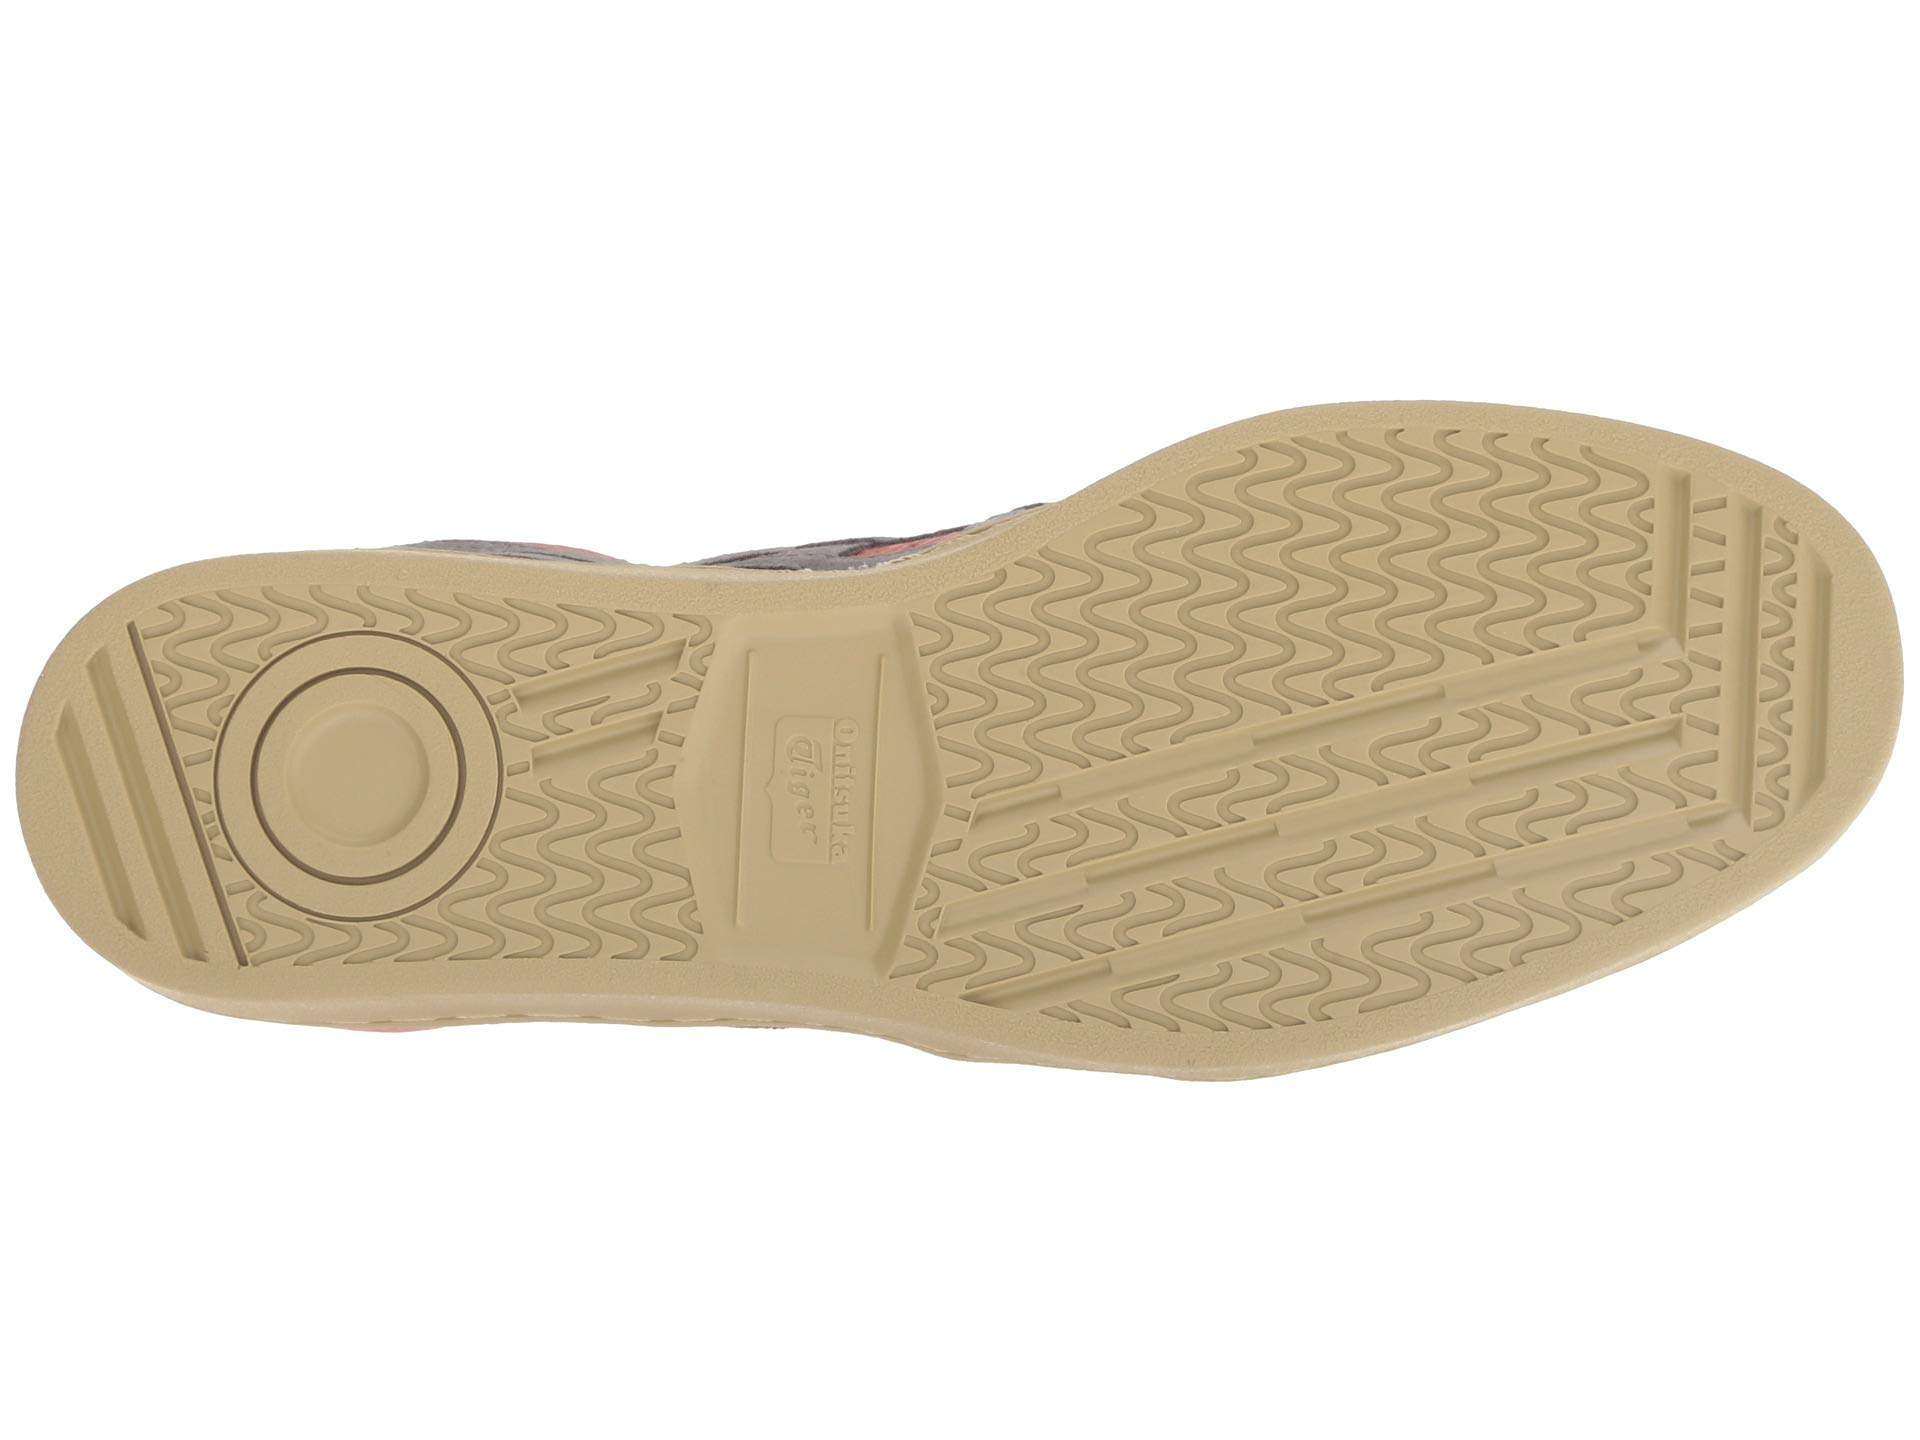chevron: (168, 591, 671, 979), (1110, 504, 1463, 898)
circle: (168, 591, 671, 979)
line: (1110, 504, 1463, 898)
text: (712, 635, 924, 917)
